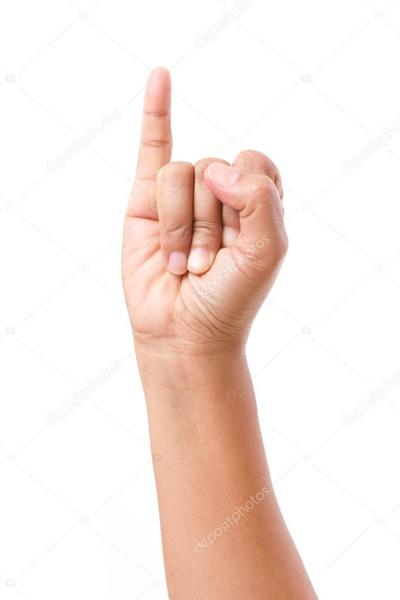closedhandfront: (111, 147, 296, 335), (132, 55, 180, 175)
